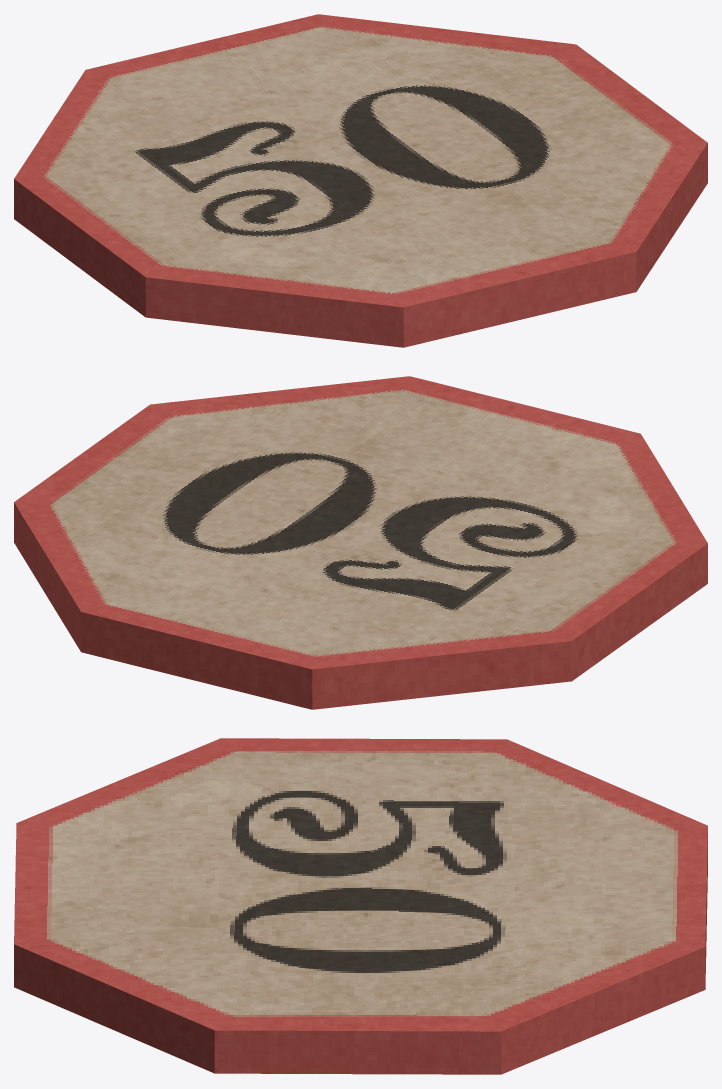
Rendered from PokerChip50.glb.
3 views of the same model, one above another, from view 1: azimuth 30°, elevation 25°; view 2: azimuth 150°, elevation 25°; view 3: azimuth 270°, elevation 25° (orthographic). The views are drawn at different scales.
Visible parts, largest first — view 1: PokerChip50; view 2: PokerChip50; view 3: PokerChip50.
Part boxes in pixels (left/top/right/bottom): PokerChip50: left=14, top=14, right=707, bottom=347; PokerChip50: left=14, top=376, right=707, bottom=709; PokerChip50: left=14, top=738, right=707, bottom=1074.
Size of the model in its own units: 0.0358 by 0.00245 by 0.0358.
1 material, 1 textured.
